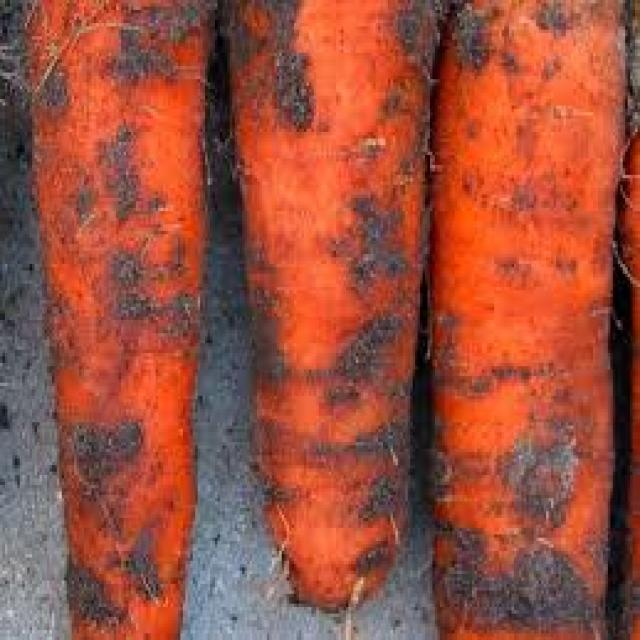Stale_Carrot: (233, 2, 436, 608), (433, 3, 624, 637), (27, 0, 211, 637)
